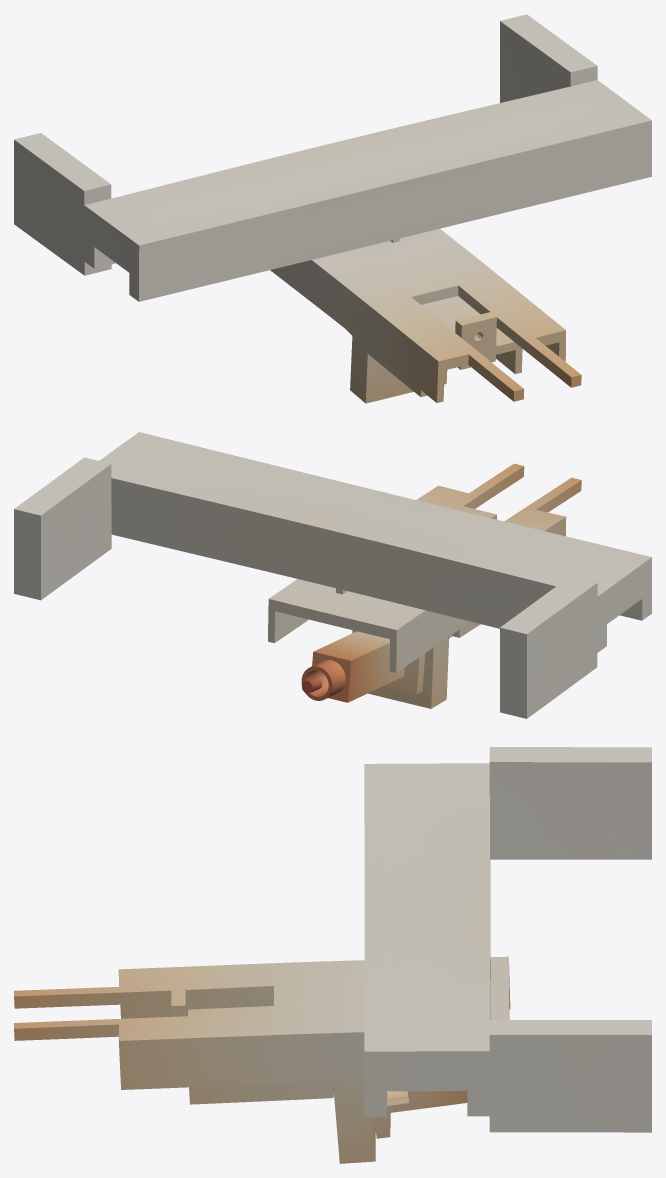
The model's file is gantry_h6_c12_Fy_u.glb.
The picture shows the model from 3 angles, top to bottom: view 1: azimuth 30°, elevation 25°; view 2: azimuth 150°, elevation 25°; view 3: azimuth 270°, elevation 25°; orthographic projection. The views are drawn at different scales.
Parts seen in each view (by area): view 1: geometry_0; view 2: geometry_0; view 3: geometry_0.
Boxes of the visible parts, x1,y1,x2,y2 form: geometry_0: [14, 14, 651, 403]; geometry_0: [14, 432, 651, 718]; geometry_0: [14, 747, 651, 1163].
Bounding box in the file's own units: 761 × 308 × 712.
